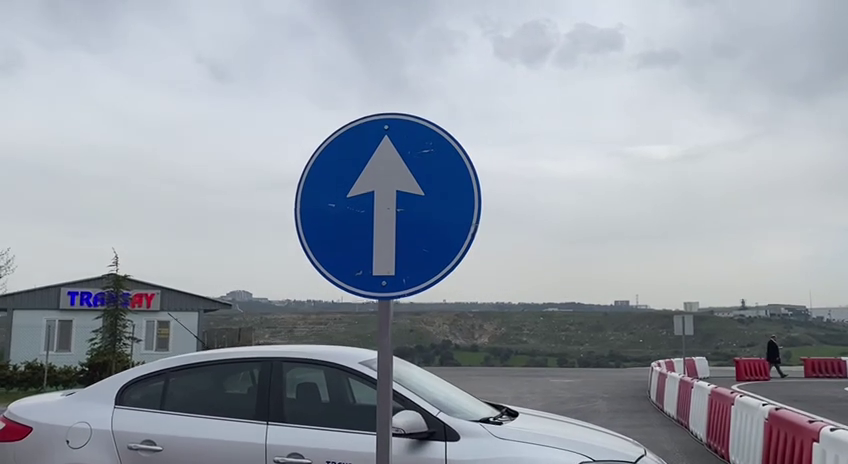forward: (291, 107, 485, 302)
